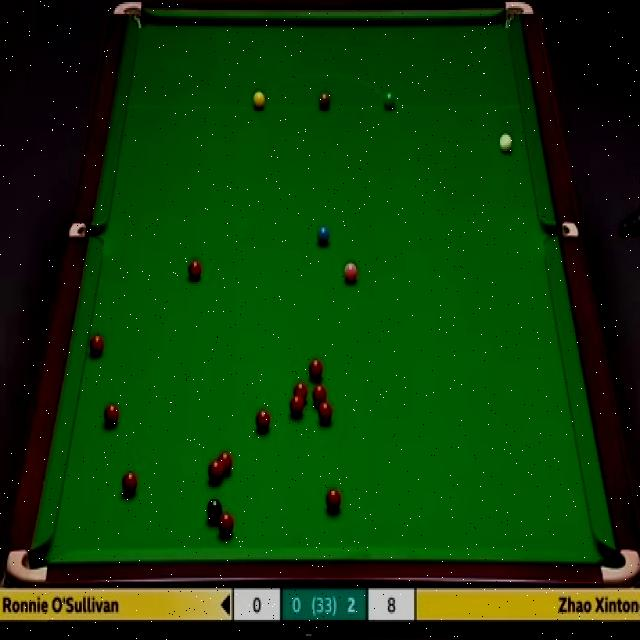black-ball: (206, 496, 224, 527)
blue-ball: (317, 224, 332, 248)
brown-ball: (318, 91, 331, 112)
green-ball: (381, 91, 395, 112)
pink-ball: (342, 258, 361, 286)
red-ball: (217, 513, 236, 541), (206, 460, 225, 485), (306, 356, 324, 382), (103, 401, 119, 429), (121, 470, 138, 495), (88, 332, 104, 358), (325, 488, 341, 513), (256, 410, 272, 434), (288, 395, 304, 419), (187, 258, 203, 281), (218, 450, 234, 472), (318, 401, 333, 424), (292, 381, 308, 402), (312, 385, 328, 404)
white-ball: (498, 130, 514, 157)
yellow-ball: (252, 90, 266, 111)
